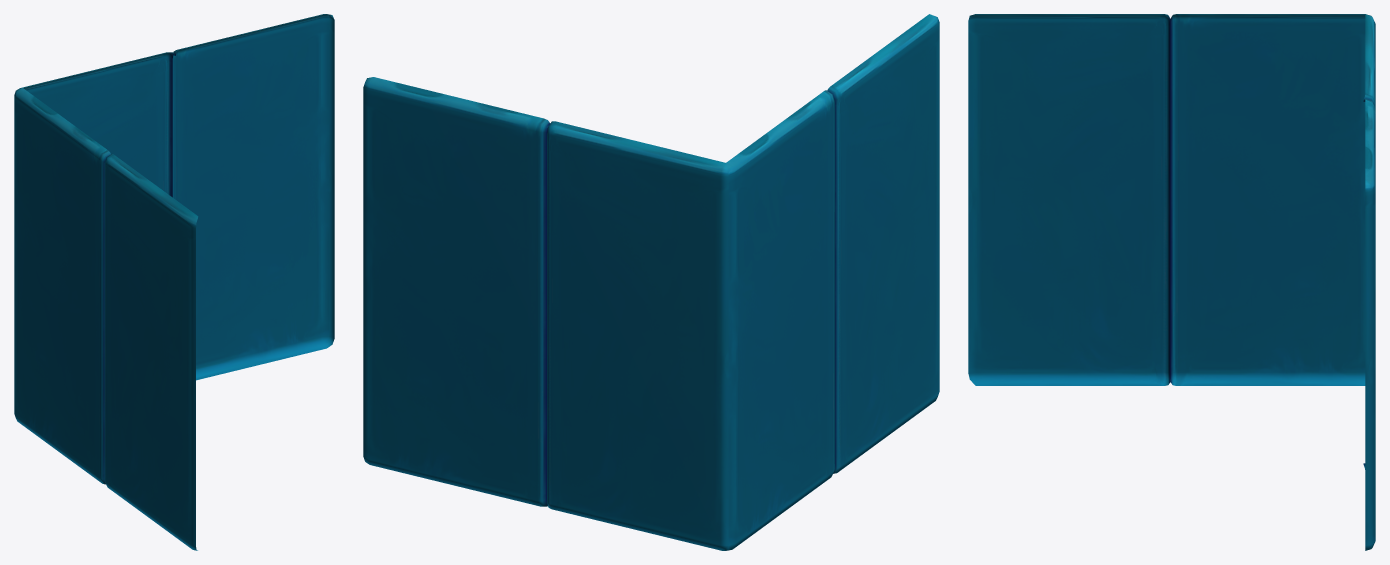
Rendered from WallColumn_v1.fbx.
3 renders of one model, left to right at view 1: azimuth 30°, elevation 25°; view 2: azimuth 150°, elevation 25°; view 3: azimuth 270°, elevation 25°, orthographic. The views are drawn at different scales.
Parts seen in each view (by area): view 1: WallColumn_v1; view 2: WallColumn_v1; view 3: WallColumn_v1.
Part boxes in pixels (x1,y1,x2,y2): WallColumn_v1: (14,14,334,550); WallColumn_v1: (363,14,939,550); WallColumn_v1: (968,14,1375,550).
Bounding box in the file's own units: 100 × 100 × 99.27.
